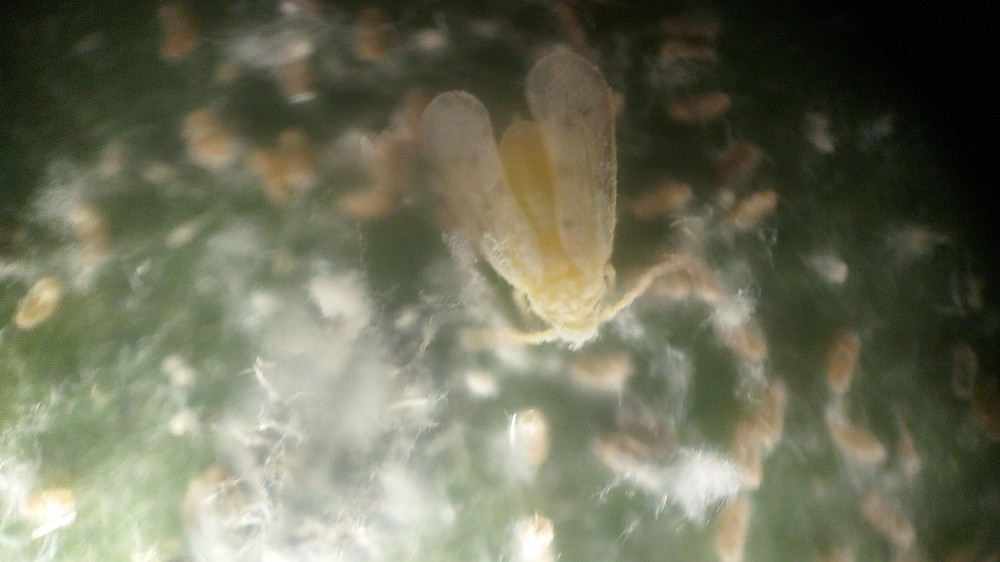Mosca Blanca: (388, 52, 722, 377)
